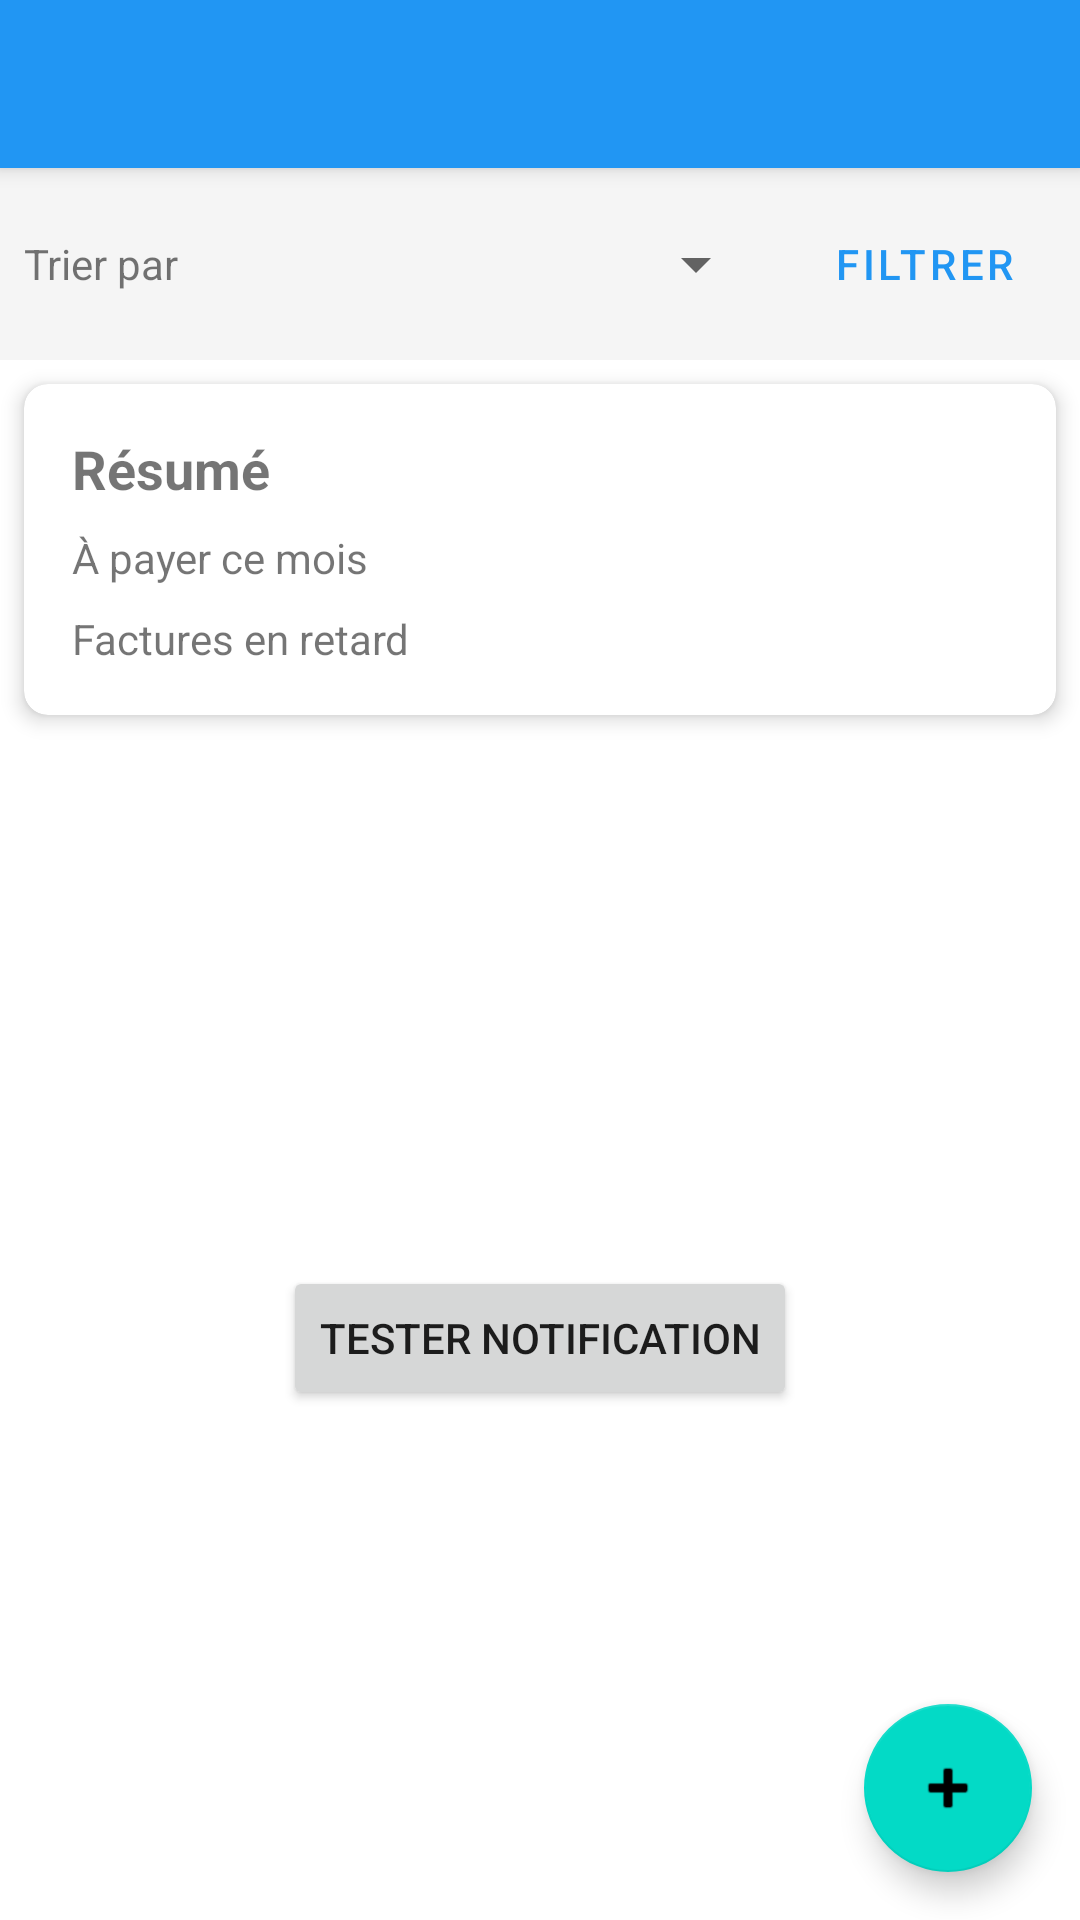

Where icons sit on this 1080px×1920px app screen, as (x1,y1,x2,y2):
Ajouter une facture: (864,1704,1032,1872)
